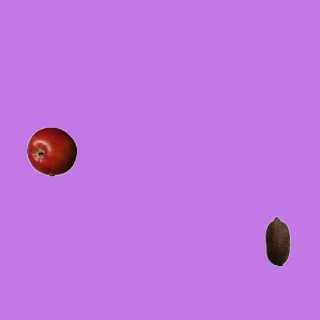Apple Braeburn: (26, 126, 76, 176)
Nut Pecan: (252, 215, 302, 265)
